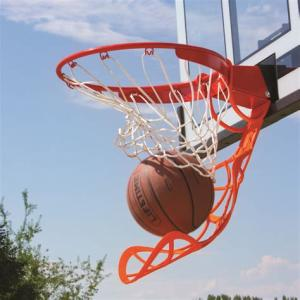Basket: (125, 149, 216, 238)
